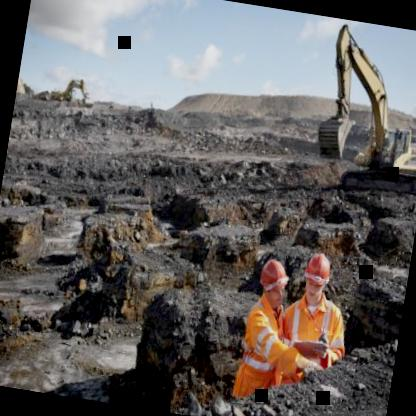helmet: (297, 249, 335, 305), (257, 252, 291, 298)
